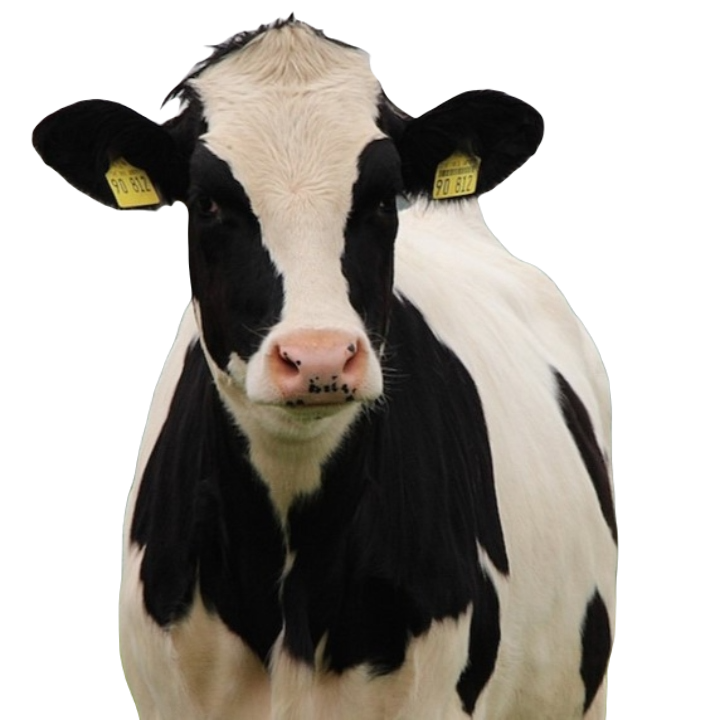Cow: (28, 15, 622, 715)
